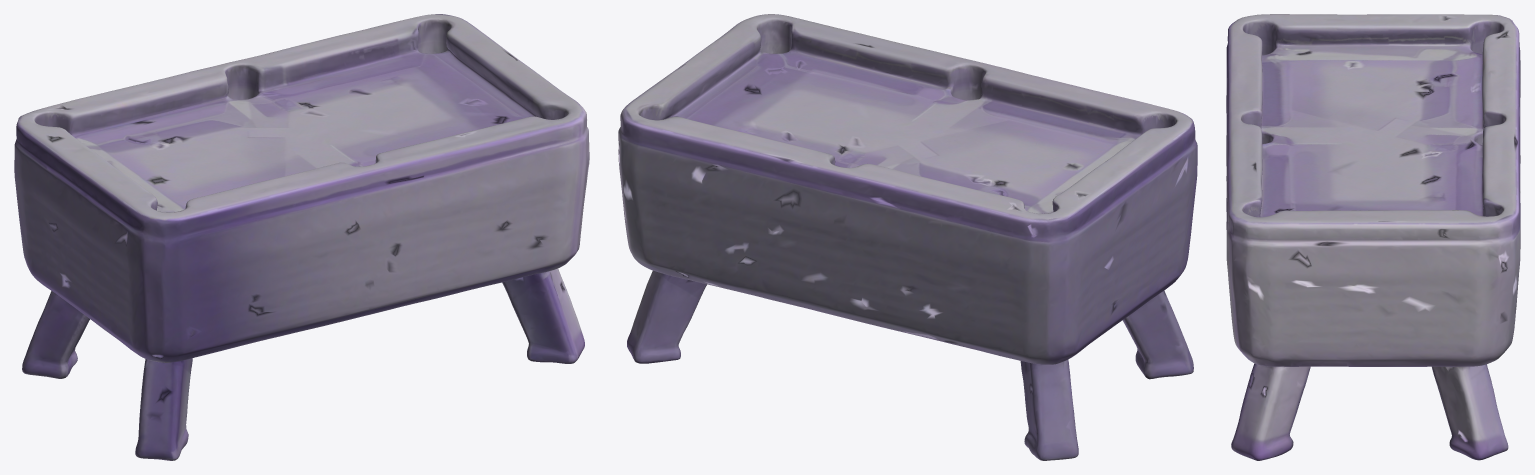
The model's file is table.glb.
3 renders of one model, left to right at view 1: azimuth 30°, elevation 25°; view 2: azimuth 150°, elevation 25°; view 3: azimuth 270°, elevation 25°, orthographic. The views are drawn at different scales.
Bounding box in the file's own units: 2 × 1.04 × 1.16.
1 material, 1 textured.
